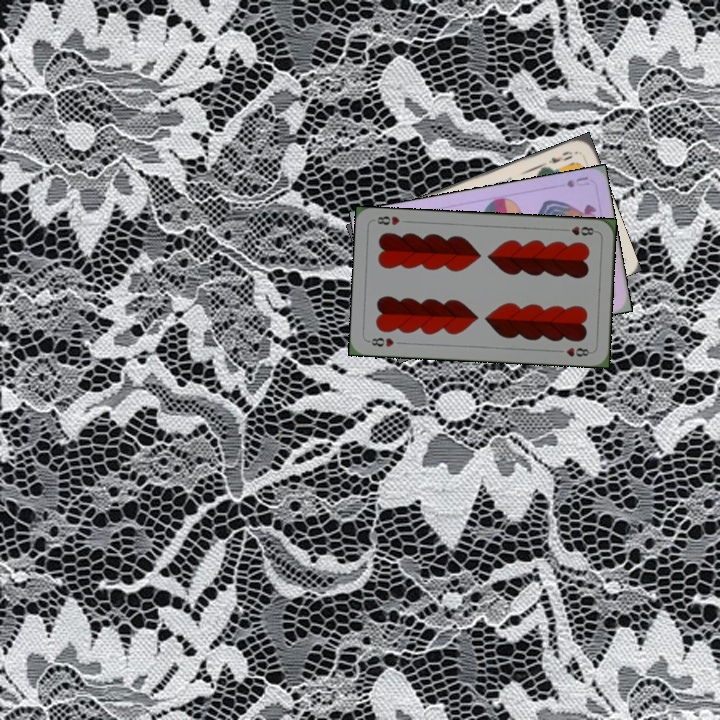EO: (544, 147, 575, 166)
H8: (558, 222, 599, 238), (364, 334, 396, 349)
SU: (563, 172, 592, 190)
